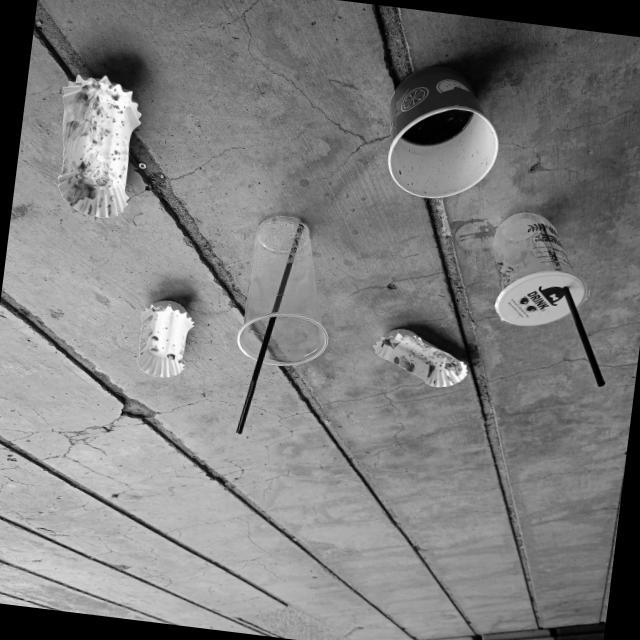recyclable waste: (368, 50, 516, 212), (225, 204, 348, 380), (38, 60, 152, 226), (475, 200, 605, 341), (364, 318, 481, 398), (126, 290, 202, 384)
